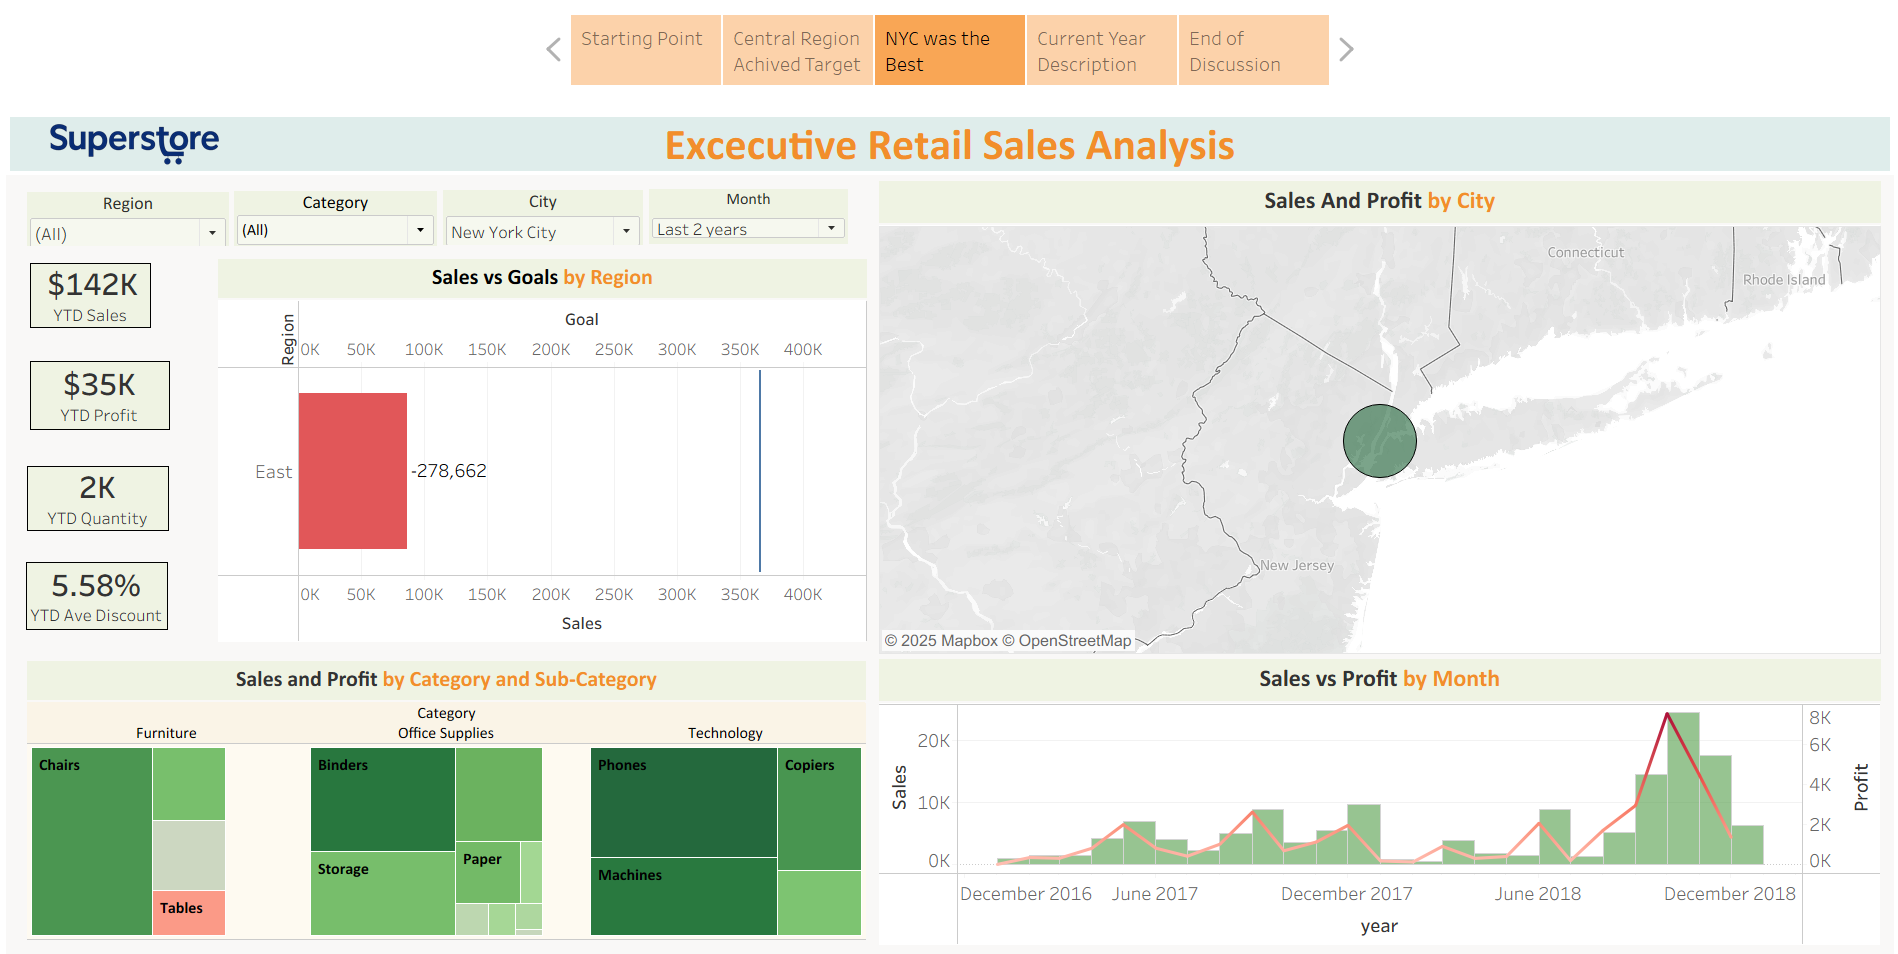

The dashboard page shown, as its layout file describes it:
{"tool":"tableau","page":{"name":"Dashboard 1","canvas":[1000,1000],"units":"permille","ordinal":0},"visuals":[{"type":"title","box":[4.2,8.2,991.7,63.6]},{"type":"image","param":"Image/Logo.png","box":[21.1,14.8,157,60.3]},{"type":"worksheet","title":"Sheet 3","mark":"Automatic","box":[462.9,88.3,526.2,551.7]},{"type":"filter","title":"Sheet 5","param":"[federated.0fsgl0g1t9uvza11zn0zj0y9v6vl].[tmn:Order Date (MDY):qk]","box":[342.1,97.9,104.7,64.3]},{"type":"filter","title":"Sheet 3","param":"[federated.0fsgl0g1t9uvza11zn0zj0y9v6vl].[none:City:nk]","box":[233.6,99.2,105.3,64.3]},{"type":"filter","title":"Sheet 4","param":"[federated.0fsgl0g1t9uvza11zn0zj0y9v6vl].[none:Category:nk]","box":[123.8,100.5,106.6,64.3]},{"type":"filter","title":"Sales vs Goals by Region","param":"[federated.0fsgl0g1t9uvza11zn0zj0y9v6vl].[none:Region:nk]","box":[15.3,101.9,105.9,63]},{"type":"worksheet","title":"Sales vs Goals by Region","mark":"Automatic","rows":["Region"],"cols":["Sales","Goal"],"box":[115.5,179.6,340.8,446.4]},{"type":"worksheet","title":"Sheet 6","mark":"Automatic","box":[16.6,183.7,90,88.5]},{"type":"worksheet","title":"Sheet 6 (2)","mark":"Automatic","box":[16.6,298.9,90,93.8]},{"type":"worksheet","title":"Sheet 6 (3)","mark":"Automatic","box":[15.3,420.9,91.3,88.5]},{"type":"worksheet","title":"Sheet 6 (4)","mark":"Automatic","box":[14.7,532.2,90.6,91.2]},{"type":"worksheet","title":"Sheet 5","mark":"Automatic","rows":["Sales","Profit"],"cols":["Order Date (MDY)"],"box":[462.9,645.8,526.2,333.3]},{"type":"worksheet","title":"Sheet 4","mark":"Automatic","cols":["Category"],"box":[15.1,648.1,440.6,327.5]}]}

Visuals, with their boxes on the dashboard's canvas, which has no fixed pixel size, in thousandths of its width and height (x1, y1, x2, y2). These are canvas units, not pixel positions in the 1898x954 screenshot, which may show the page scaled, cropped or inside an application window:
title: BBox(4, 8, 996, 72)
image: BBox(21, 15, 178, 75)
"Sheet 3" worksheet: BBox(463, 88, 989, 640)
"Sheet 5" filter: BBox(342, 98, 447, 162)
"Sheet 3" filter: BBox(234, 99, 339, 164)
"Sheet 4" filter: BBox(124, 100, 230, 165)
"Sales vs Goals by Region" filter: BBox(15, 102, 121, 165)
"Sales vs Goals by Region" worksheet: BBox(116, 180, 456, 626)
"Sheet 6" worksheet: BBox(17, 184, 107, 272)
"Sheet 6 (2)" worksheet: BBox(17, 299, 107, 393)
"Sheet 6 (3)" worksheet: BBox(15, 421, 107, 509)
"Sheet 6 (4)" worksheet: BBox(15, 532, 105, 623)
"Sheet 5" worksheet: BBox(463, 646, 989, 979)
"Sheet 4" worksheet: BBox(15, 648, 456, 976)
